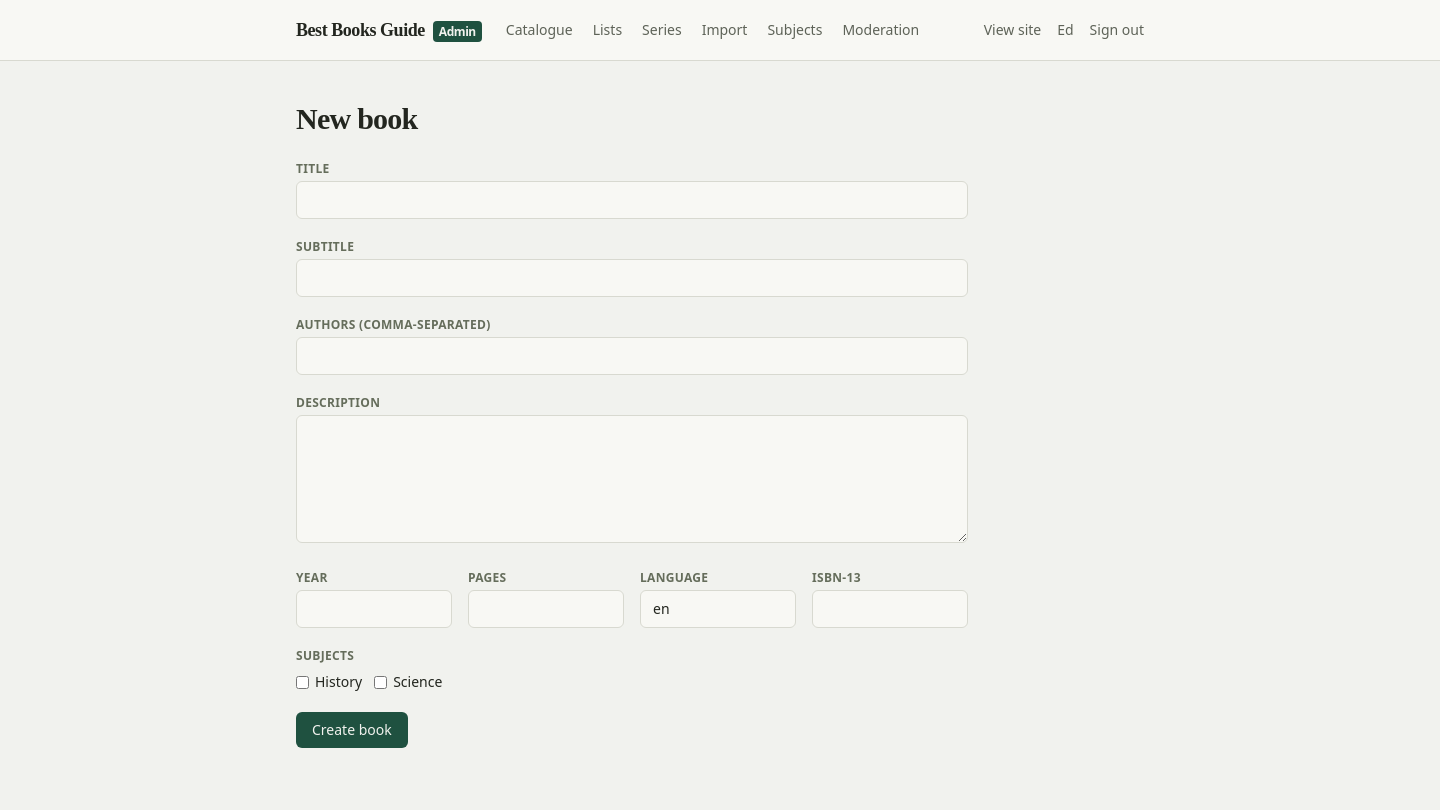
Test case: BookFormPage — create › surfaces the problem detail when the save fails
Check: the heading "New book" is shown, box [296, 102, 418, 135]
In the field labelled "Title": (632, 200) [296, 181, 968, 219], type "Sapiens"
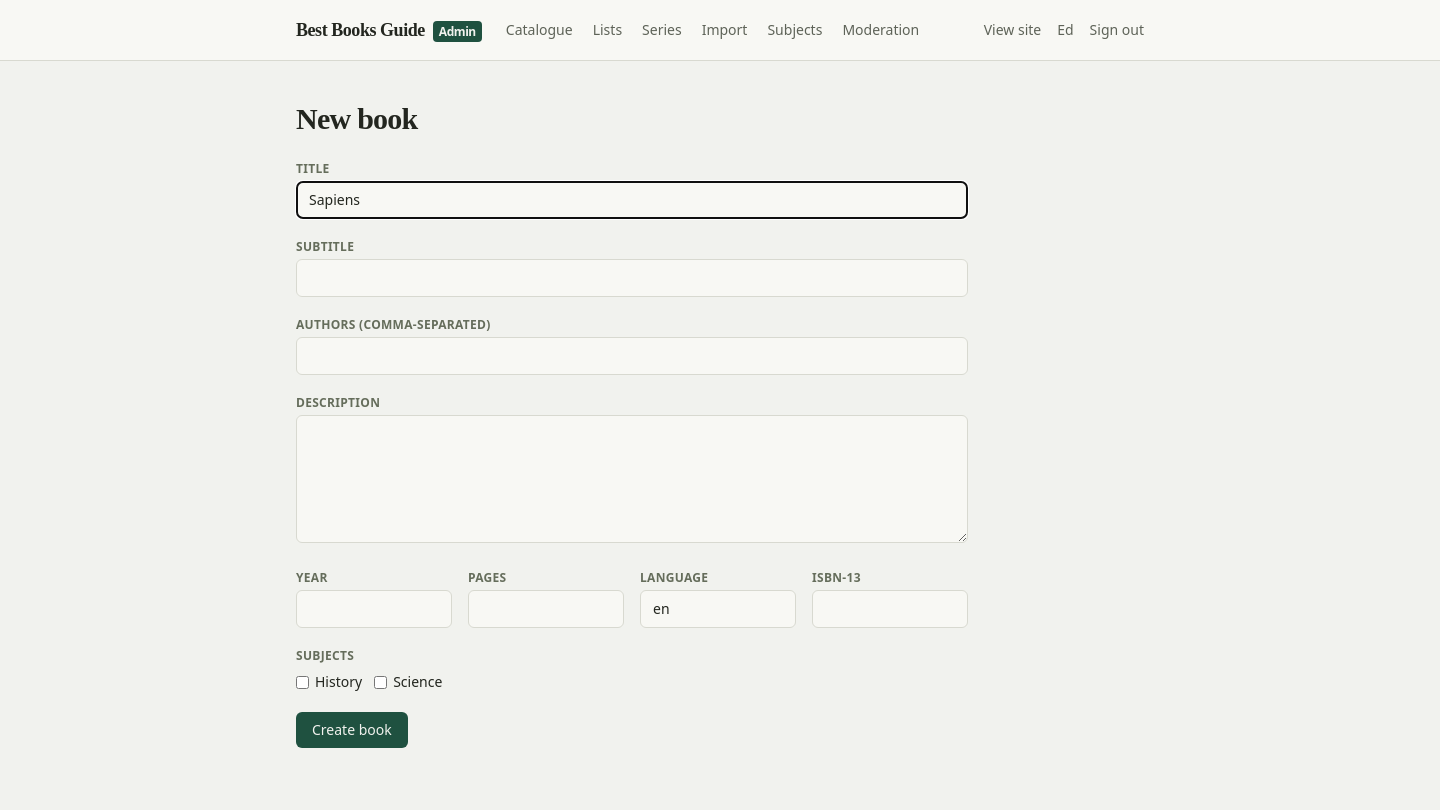
Click the button "Create book": (352, 730) [296, 712, 408, 748]
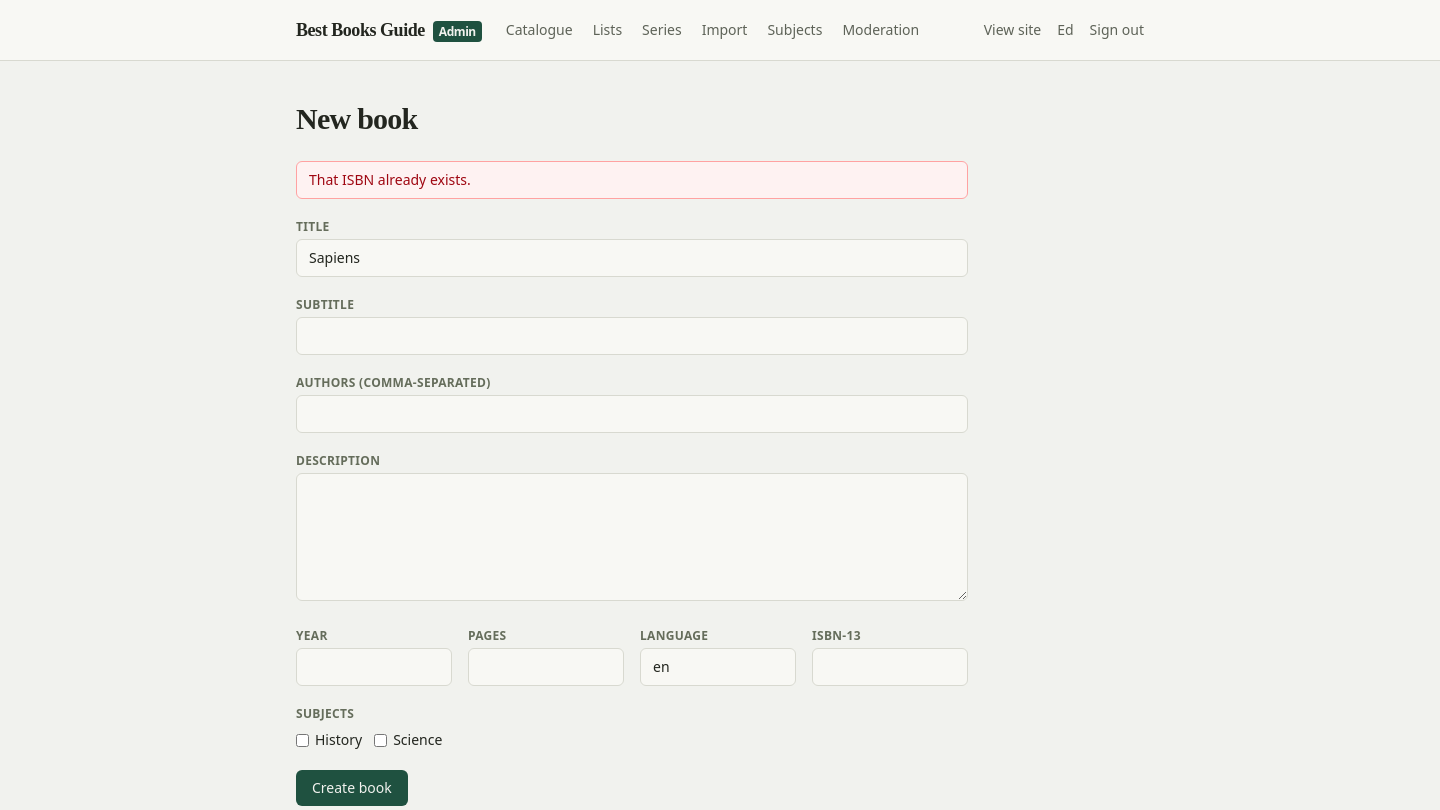
Check: the text "That ISBN already exists." is shown, box [296, 161, 968, 199]
